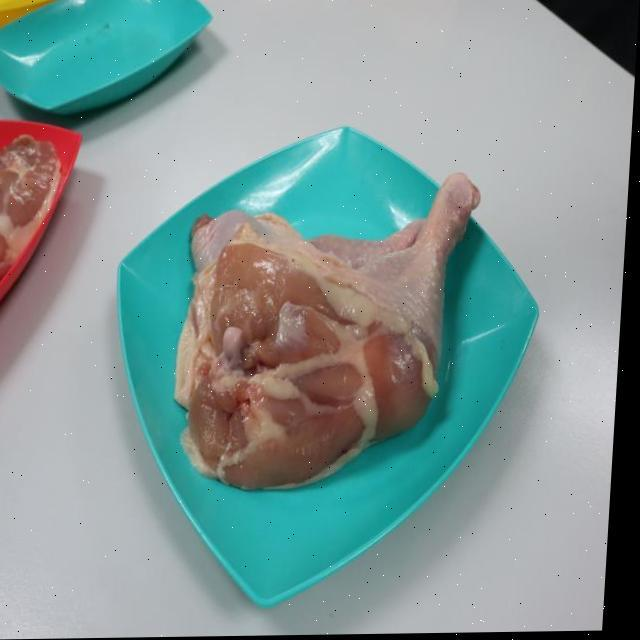quater: (202, 184, 511, 421)
